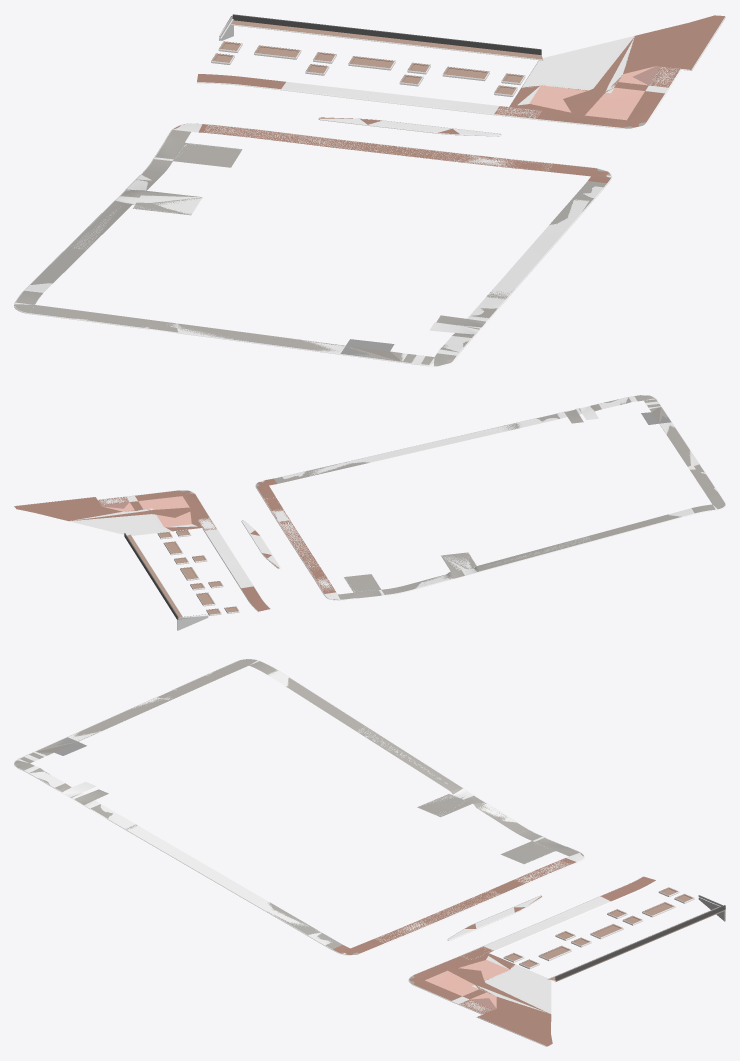
The model's file is sidewalk_boulevard.dae.
3 views of the same model, one above another, from view 1: azimuth 30°, elevation 25°; view 2: azimuth 150°, elevation 25°; view 3: azimuth 270°, elevation 25° (orthographic). The views are drawn at different scales.
Visible parts, largest first — view 1: sidewalk_boulevard_a3000, sidewalk_boulevard_a2000, Colmesh-1; view 2: sidewalk_boulevard_a3000, sidewalk_boulevard_a2000, Colmesh-1; view 3: sidewalk_boulevard_a2000, sidewalk_boulevard_a3000, Colmesh-1.
Part boxes in pixels (<box>): sidewalk_boulevard_a3000: <box>14,15,725,366</box>; sidewalk_boulevard_a2000: <box>15,15,724,366</box>; Colmesh-1: <box>219,14,626,318</box>; sidewalk_boulevard_a3000: <box>14,395,725,630</box>; sidewalk_boulevard_a2000: <box>14,395,725,611</box>; Colmesh-1: <box>124,418,558,619</box>; sidewalk_boulevard_a2000: <box>14,659,655,1046</box>; sidewalk_boulevard_a3000: <box>14,659,725,1046</box>; Colmesh-1: <box>90,804,725,1011</box>.
Size of the model in its own units: 215 by 195 by 20.29.
